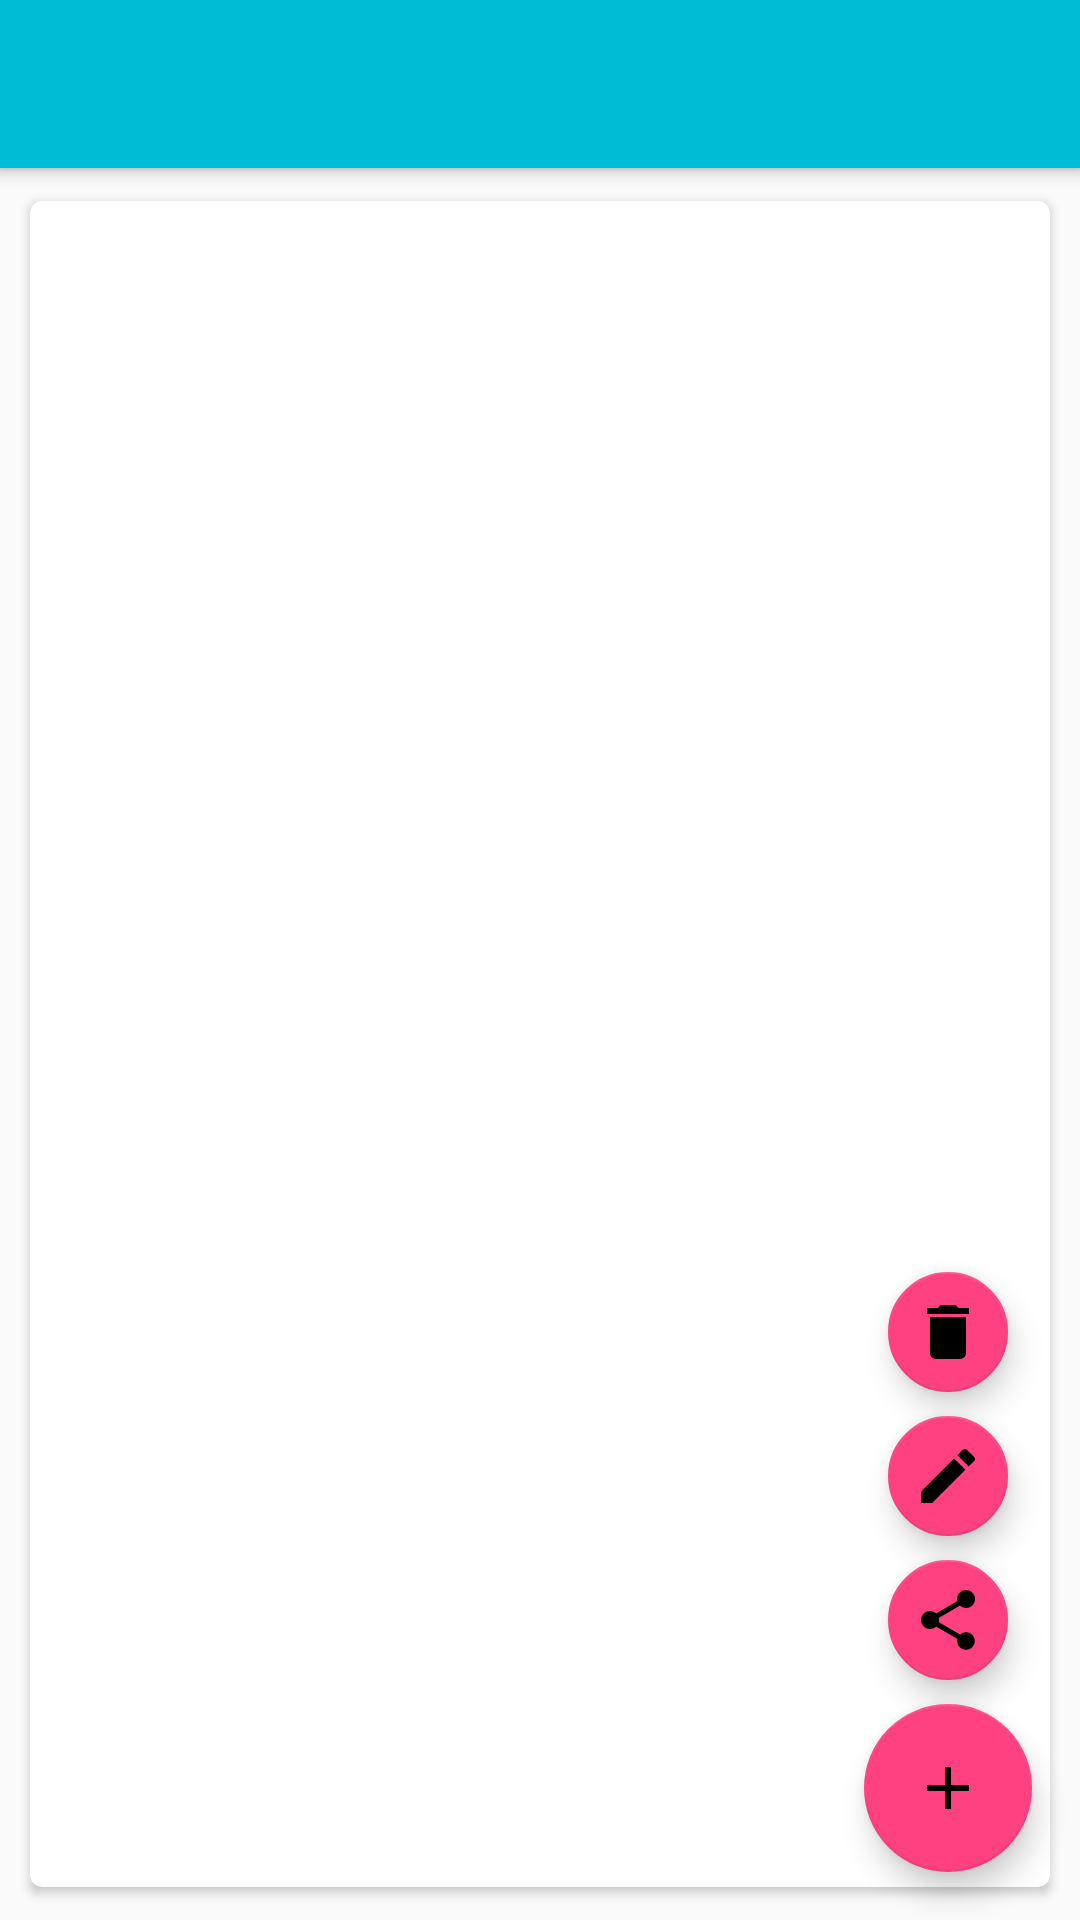

Where to tap for icons on this 1080x1920 app screen, as (x=x, y=y):
add: (x=948, y=1788)
delete: (x=948, y=1332)
edit: (x=948, y=1476)
share: (x=948, y=1620)
